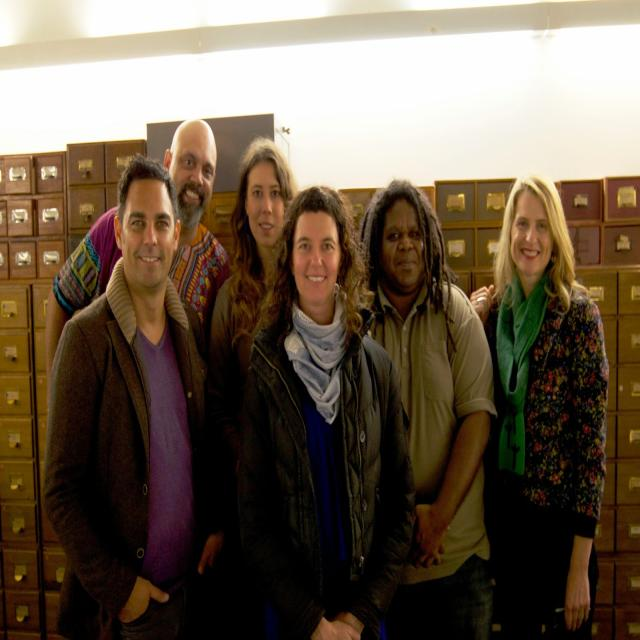body: (41, 154, 231, 639), (237, 182, 418, 640), (357, 179, 500, 640), (468, 178, 608, 640), (45, 118, 234, 394), (210, 137, 298, 386)
